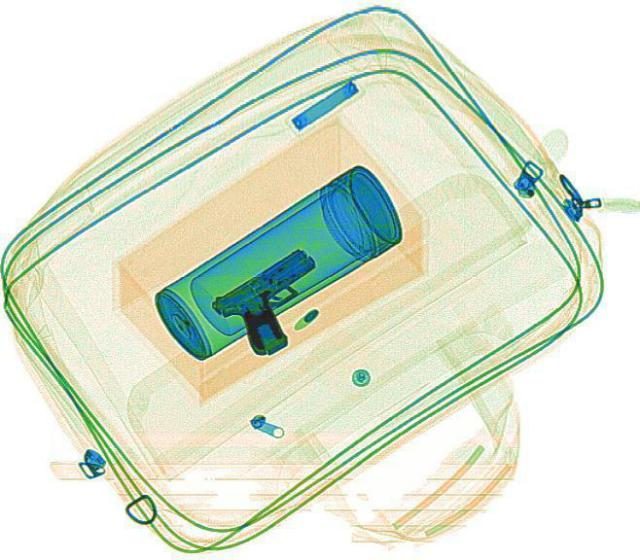Gun: (203, 243, 355, 359)
